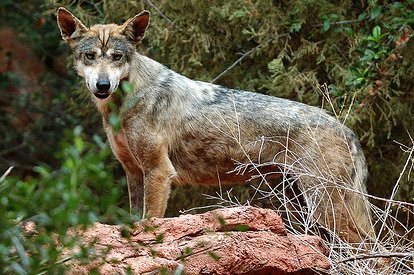wolf: (52, 7, 382, 250)
